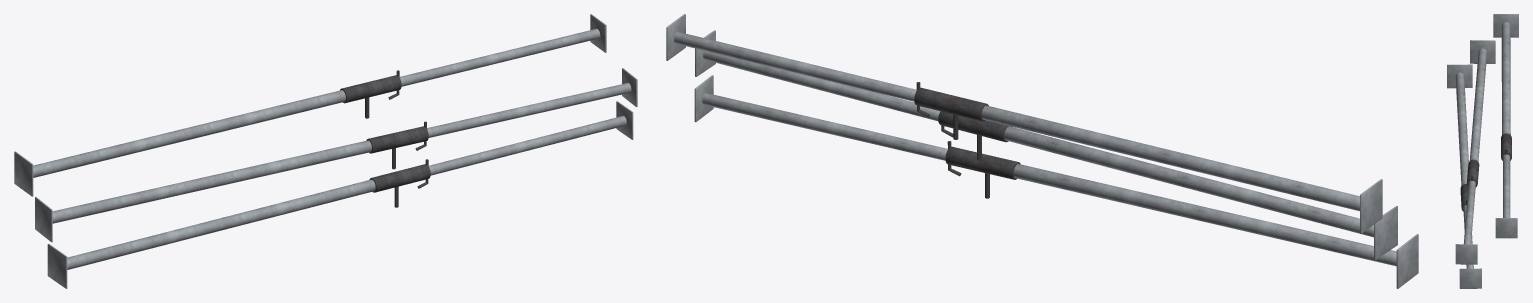
File: EST-ESC-001_anim.glb
3 views of the same model, side by side, from view 1: azimuth 30°, elevation 25°; view 2: azimuth 150°, elevation 25°; view 3: azimuth 270°, elevation 25° (orthographic). The views are drawn at different scales.
Visible parts, largest first — view 1: EST-ESC-001_anim1, EST-ESC-001_anim2, EST-ESC-001_anim0; view 2: EST-ESC-001_anim2, EST-ESC-001_anim0, EST-ESC-001_anim1; view 3: EST-ESC-001_anim1, EST-ESC-001_anim2, EST-ESC-001_anim0.
Part boxes in pixels (x1,y1,x2,y2): EST-ESC-001_anim1: (35, 68, 637, 242); EST-ESC-001_anim2: (14, 14, 606, 196); EST-ESC-001_anim0: (47, 101, 633, 288); EST-ESC-001_anim2: (666, 14, 1382, 233); EST-ESC-001_anim0: (694, 75, 1418, 288); EST-ESC-001_anim1: (695, 30, 1397, 260); EST-ESC-001_anim1: (1455, 40, 1495, 264); EST-ESC-001_anim2: (1493, 14, 1518, 238); EST-ESC-001_anim0: (1447, 64, 1481, 288).
Bounding box in the file's own units: 2.63 × 0.49 × 0.391.
Materials: 2 (2 with a texture image).
